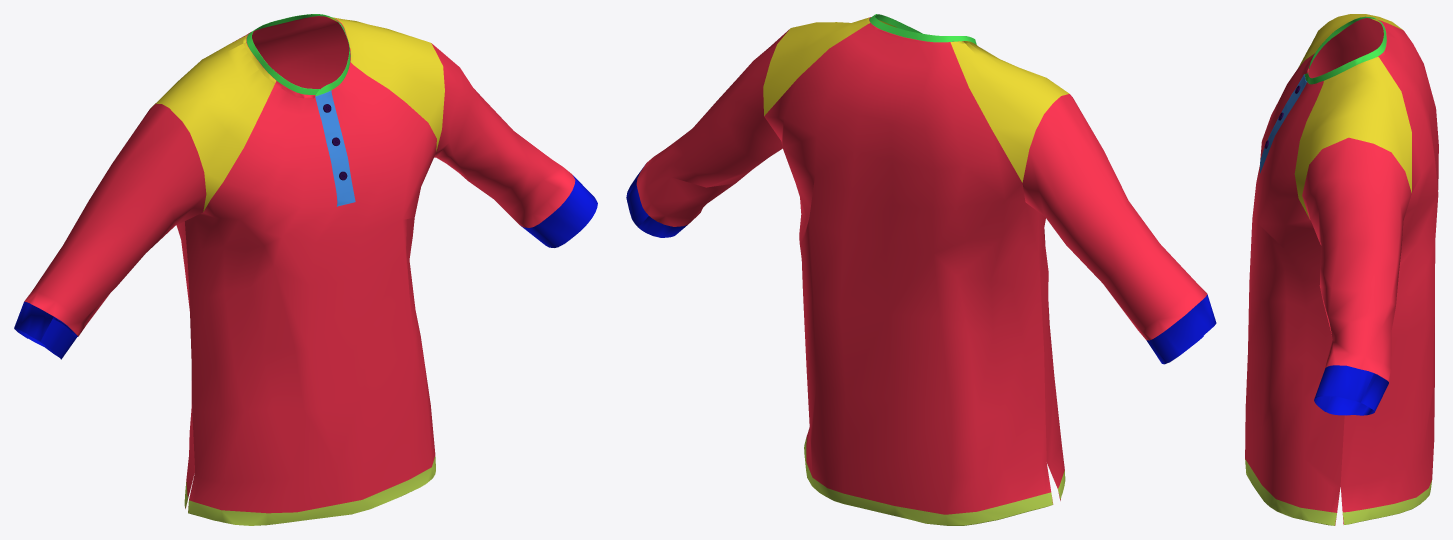
The model's file is tshirt2.glb.
3 renders of one model, left to right at view 1: azimuth 30°, elevation 25°; view 2: azimuth 150°, elevation 25°; view 3: azimuth 270°, elevation 25°, orthographic. The views are drawn at different scales.
Visible parts, largest first — view 1: Shirt; view 2: Shirt; view 3: Shirt.
Boxes of the visible parts, left/top/right/bottom form: Shirt: left=14, top=14, right=597, bottom=525; Shirt: left=626, top=14, right=1216, bottom=525; Shirt: left=1245, top=14, right=1438, bottom=525.
Size of the model in its own units: 4.1 by 3.11 by 1.24.
